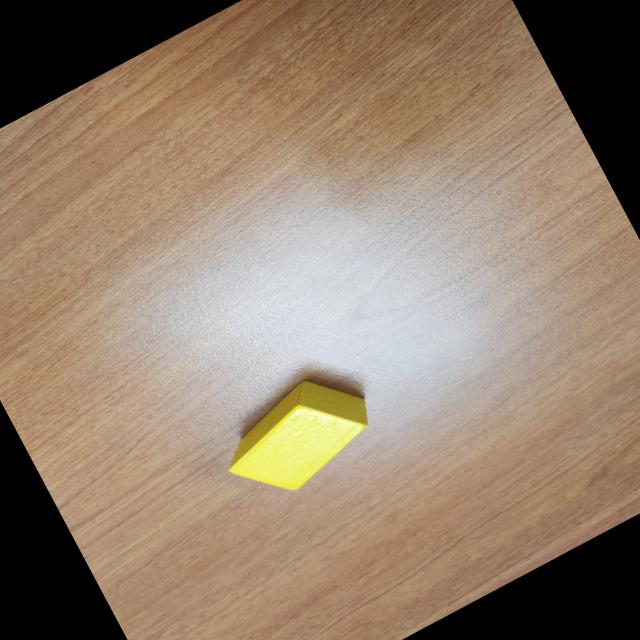yellow: (205, 357, 388, 514)
